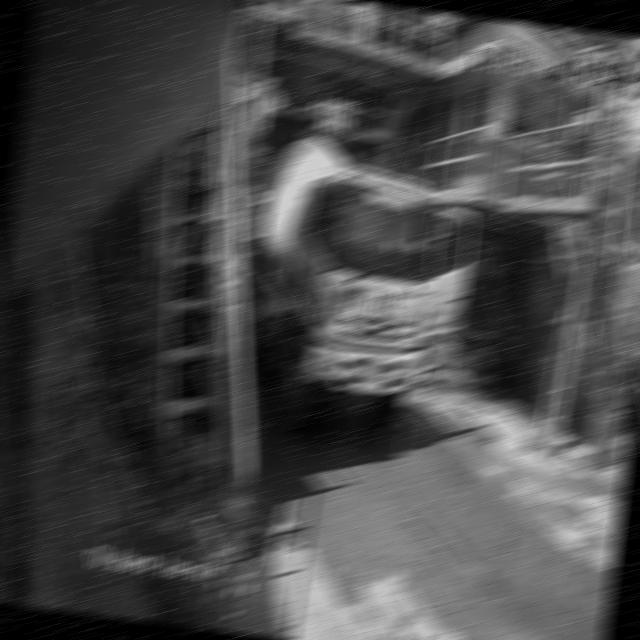cement_mixer_truck: (239, 134, 475, 429)
